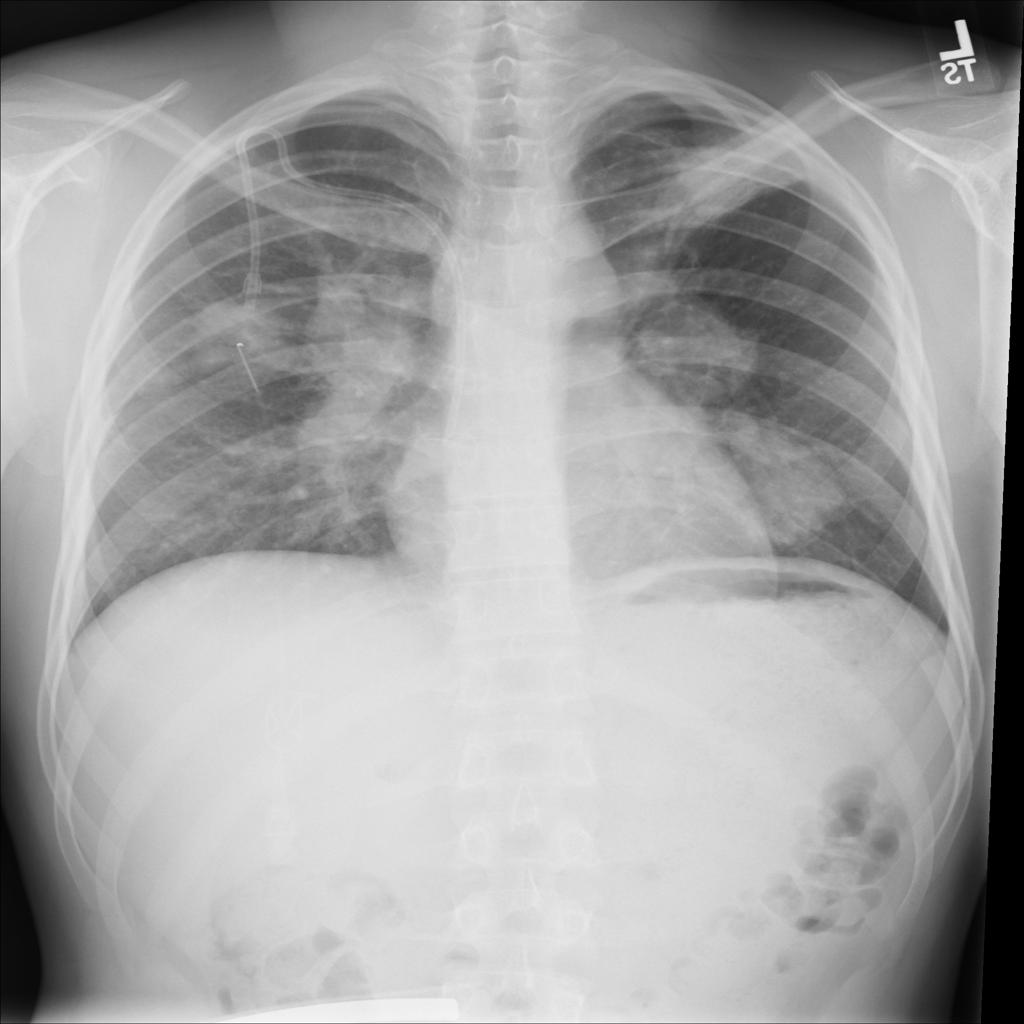nodule: (632, 285, 773, 408), (721, 424, 858, 547), (196, 308, 305, 389)
